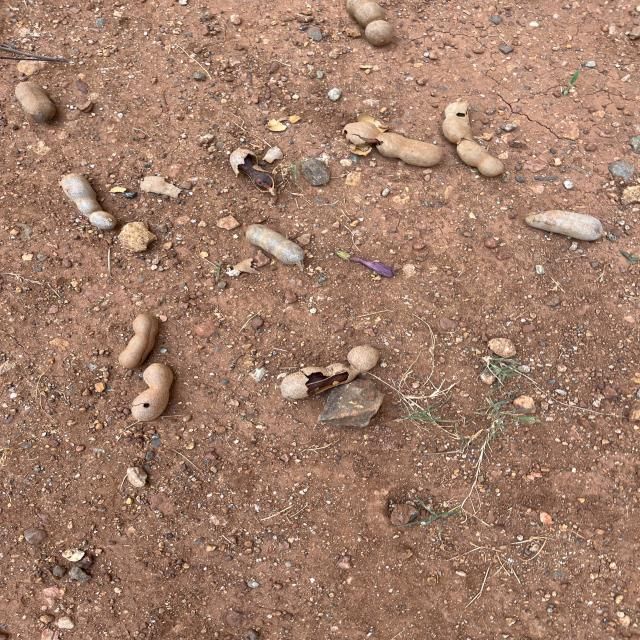tamarind: (284, 344, 381, 397), (443, 100, 507, 177), (341, 122, 443, 166), (62, 174, 116, 230), (245, 224, 311, 268), (132, 363, 176, 421), (526, 210, 603, 243), (115, 312, 157, 371), (344, 0, 398, 44), (231, 148, 279, 192), (15, 81, 56, 125)
